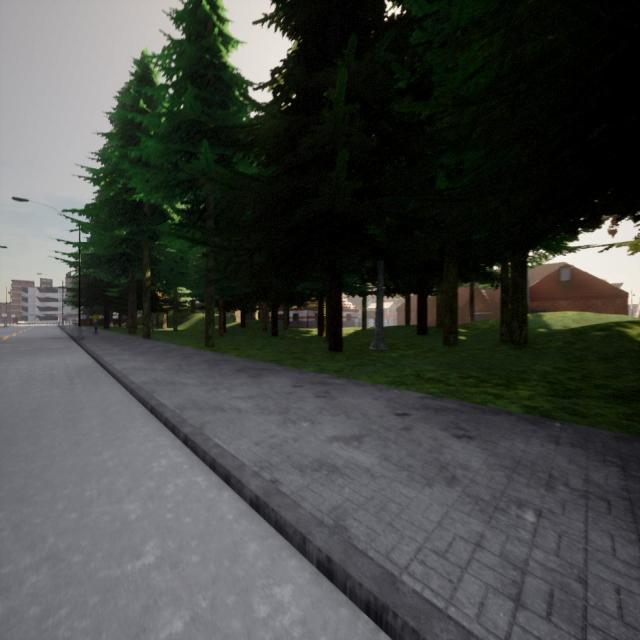Pedestrian: (92, 312, 99, 334)
